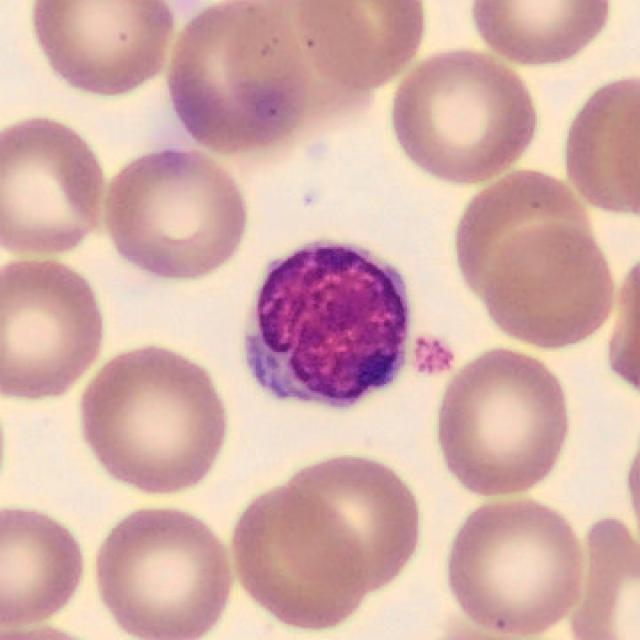Linfocito: (245, 245, 405, 404)
